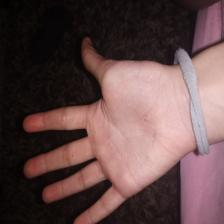five: (21, 38, 189, 220)
